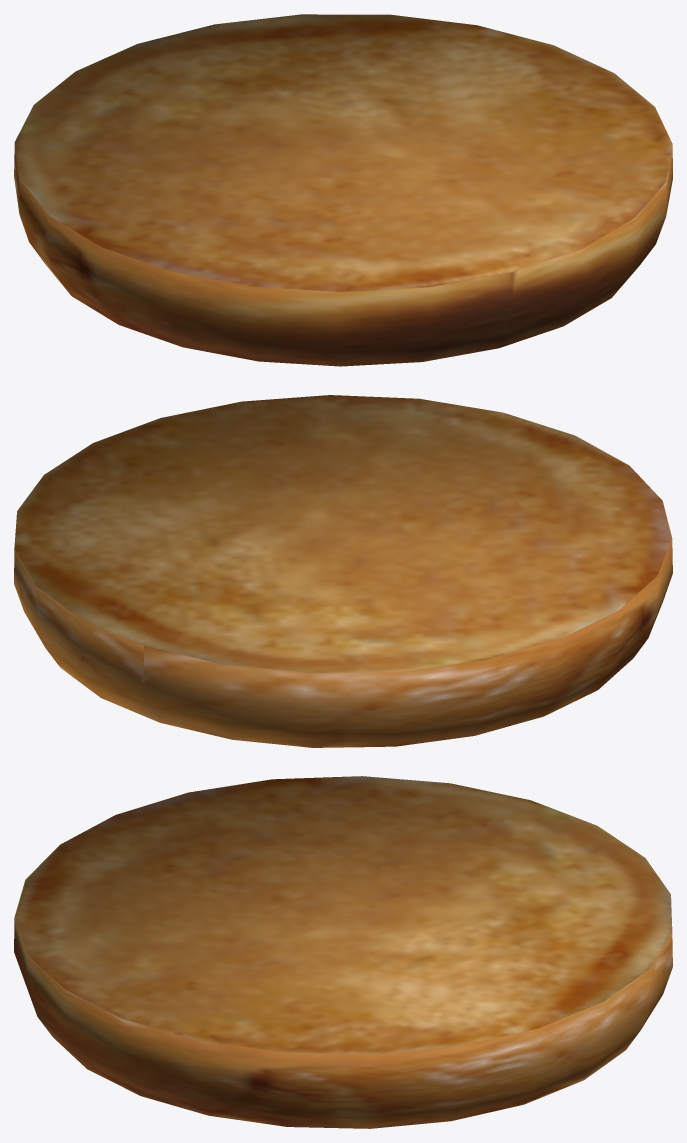
The model's file is Bottom_Bun_001.glb.
3 renders of one model, top to bottom at view 1: azimuth 30°, elevation 25°; view 2: azimuth 150°, elevation 25°; view 3: azimuth 270°, elevation 25°, orthographic.
Visible parts, largest first — view 1: Bottom_Bun.001; view 2: Bottom_Bun.001; view 3: Bottom_Bun.001.
Boxes of the visible parts, x1,y1,x2,y2 form: Bottom_Bun.001: (14,14,672,366); Bottom_Bun.001: (14,395,672,747); Bottom_Bun.001: (14,776,672,1128).
Size of the model in its own units: 0.2169 by 0.0353 by 0.2166.
1 material, 1 textured.
